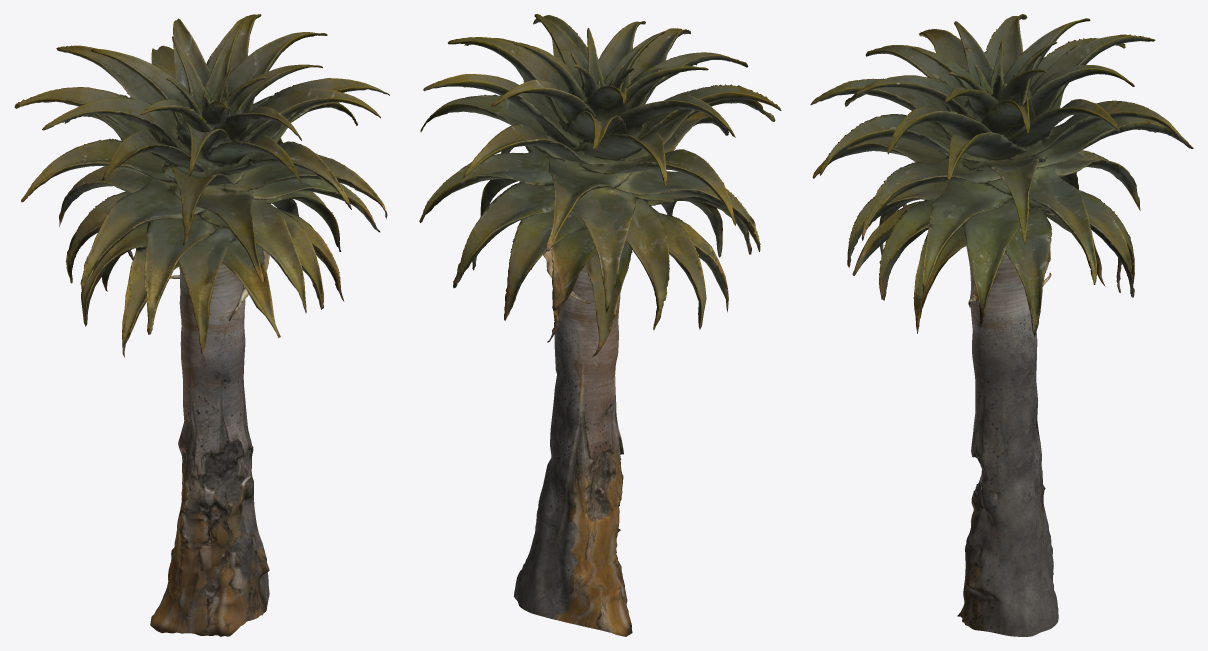
The model's file is quiver_tree_02_1k.glb.
3 views of the same model, side by side, from view 1: azimuth 30°, elevation 25°; view 2: azimuth 150°, elevation 25°; view 3: azimuth 270°, elevation 25° (orthographic).
Visible parts, largest first — view 1: quiver_tree_02; view 2: quiver_tree_02; view 3: quiver_tree_02.
Boxes of the visible parts, x1,y1,x2,y2 form: quiver_tree_02: [14, 14, 389, 636]; quiver_tree_02: [419, 14, 781, 636]; quiver_tree_02: [810, 14, 1193, 636].
Size of the model in its own units: 0.8716 by 1.47 by 0.8808.
1 material, 1 textured.
